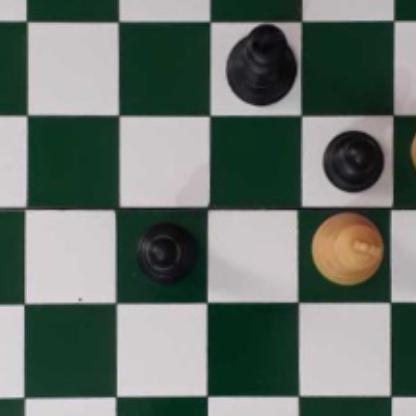black-king: (223, 21, 297, 108)
black-pawn: (320, 123, 382, 193), (133, 218, 193, 283)
white-bishop: (409, 115, 416, 187)
white-king: (312, 208, 384, 285)
